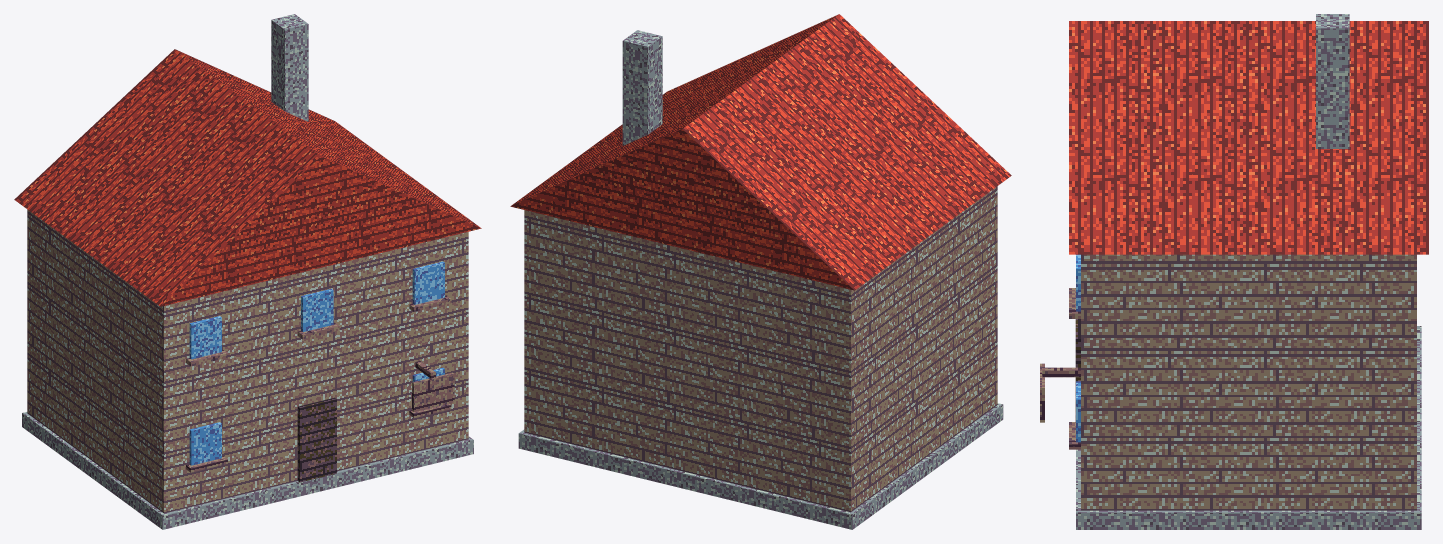
The model's file is estalagem.glb.
3 views of the same model, side by side, from view 1: azimuth 30°, elevation 25°; view 2: azimuth 150°, elevation 25°; view 3: azimuth 270°, elevation 25° (orthographic). The views are drawn at different scales.
Visible parts, largest first — view 1: estalagem; view 2: estalagem; view 3: estalagem.
Boxes of the visible parts, left/top/right/bottom form: estalagem: left=14, top=14, right=481, bottom=529; estalagem: left=510, top=14, right=1011, bottom=529; estalagem: left=1040, top=14, right=1428, bottom=529.
Bounding box in the file's own units: 9.5 × 10.6 × 8.1.
6 materials, 6 textured.
